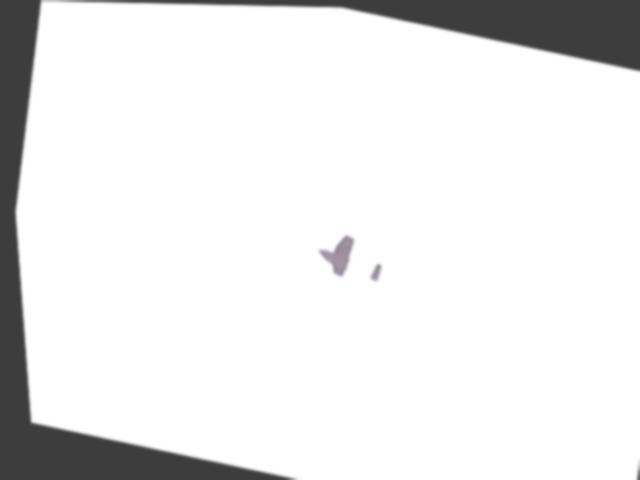uav: (306, 225, 386, 284)
